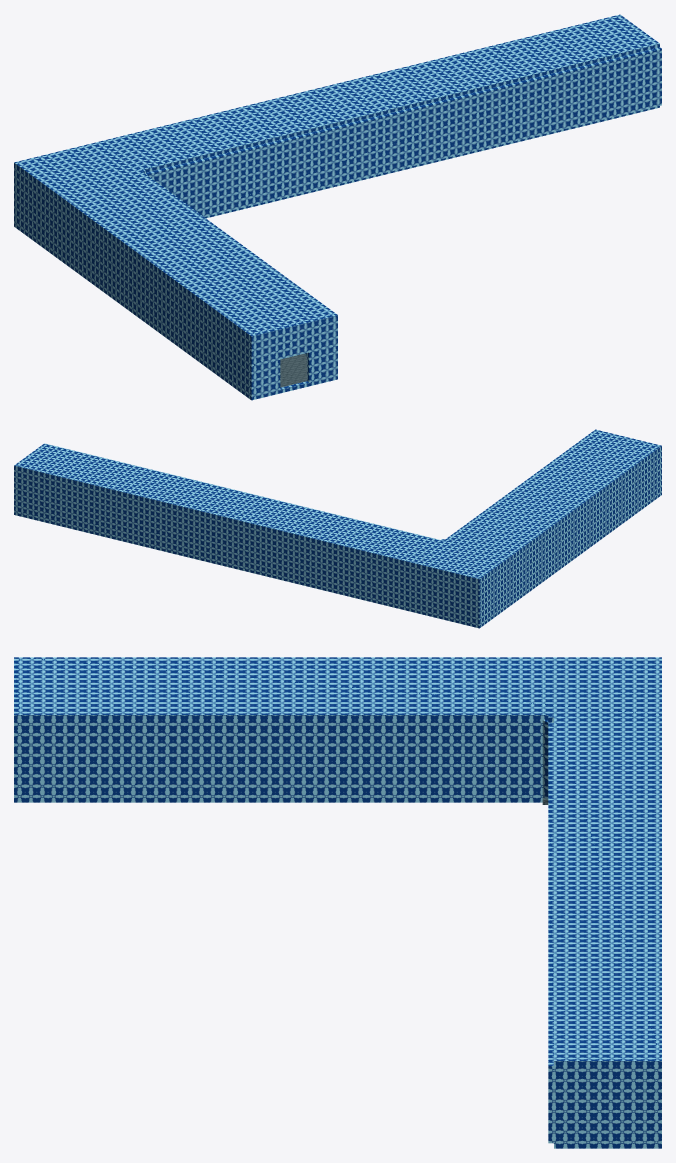
3 renders of one model, top to bottom at view 1: azimuth 30°, elevation 25°; view 2: azimuth 150°, elevation 25°; view 3: azimuth 270°, elevation 25°, orthographic. The views are drawn at different scales.
Visible parts, largest first — view 1: entity0_brush10, entity0_brush11, entity0_brush5, entity0_brush4, entity0_brush0, entity0_brush1, entity0_brush9, entity0_brush2, entity0_brush7; view 2: entity0_brush8, entity0_brush11, entity0_brush5, entity0_brush4, entity0_brush9; view 3: entity0_brush3, entity0_brush5, entity0_brush11, entity0_brush12, entity0_brush10.
Boxes of the visible parts, left/top/right/bottom form: entity0_brush10: left=146, top=47, right=661, bottom=216; entity0_brush11: left=101, top=14, right=659, bottom=172; entity0_brush5: left=14, top=141, right=335, bottom=337; entity0_brush4: left=14, top=166, right=249, bottom=398; entity0_brush0: left=249, top=313, right=337, bottom=366; entity0_brush1: left=249, top=359, right=280, bottom=400; entity0_brush9: left=204, top=106, right=659, bottom=218; entity0_brush2: left=307, top=345, right=337, bottom=386; entity0_brush7: left=280, top=354, right=307, bottom=387; entity0_brush8: left=14, top=468, right=476, bottom=624; entity0_brush11: left=14, top=443, right=442, bottom=565; entity0_brush5: left=413, top=430, right=660, bottom=581; entity0_brush4: left=476, top=450, right=660, bottom=628; entity0_brush9: left=14, top=512, right=415, bottom=612; entity0_brush3: left=19, top=720, right=542, bottom=802; entity0_brush5: left=19, top=657, right=661, bottom=720; entity0_brush11: left=554, top=715, right=661, bottom=1065; entity0_brush12: left=554, top=1066, right=656, bottom=1143; entity0_brush10: left=548, top=722, right=553, bottom=1143.
Size of the model in its own units: 2688 by 272 by 1824.
